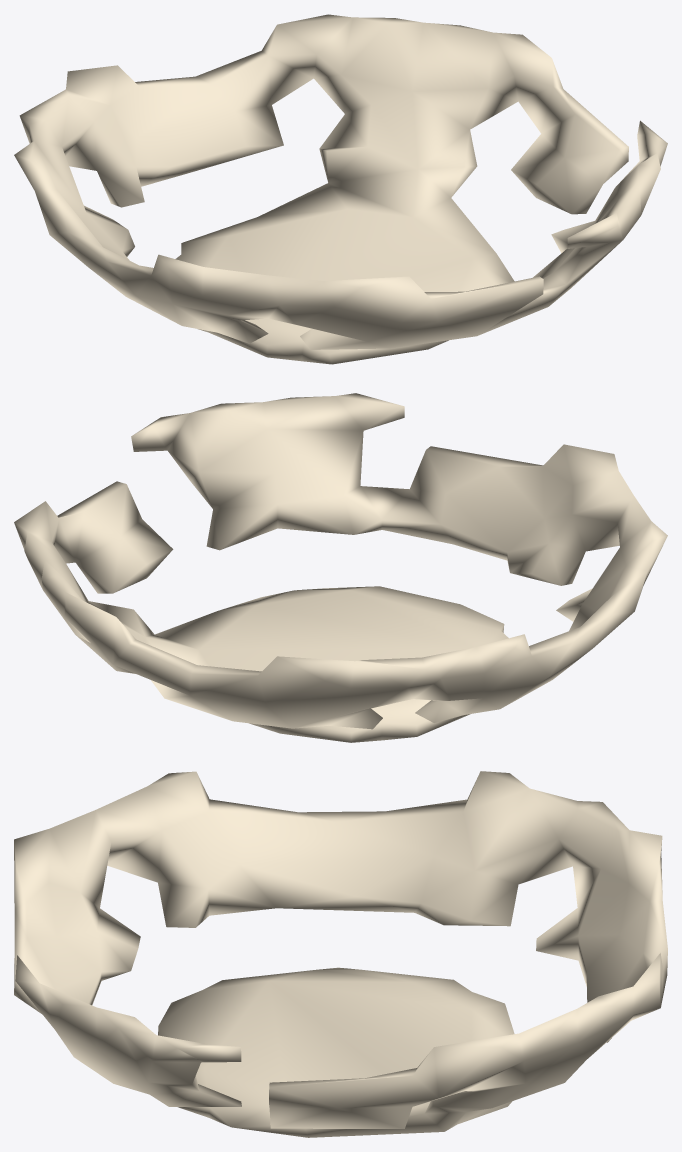
3 renders of one model, top to bottom at view 1: azimuth 30°, elevation 25°; view 2: azimuth 150°, elevation 25°; view 3: azimuth 270°, elevation 25°, orthographic. The views are drawn at different scales.
Parts seen in each view (by area): view 1: 얕은 도자기 그릇; view 2: 얕은 도자기 그릇; view 3: 얕은 도자기 그릇.
Boxes of the visible parts, <box> form: 얕은 도자기 그릇: <box>14,14,667,364</box>; 얕은 도자기 그릇: <box>14,393,667,742</box>; 얕은 도자기 그릇: <box>14,771,667,1137</box>.
Size of the model in its own units: 0.2837 by 0.0803 by 0.284.
1 material, 1 textured.
